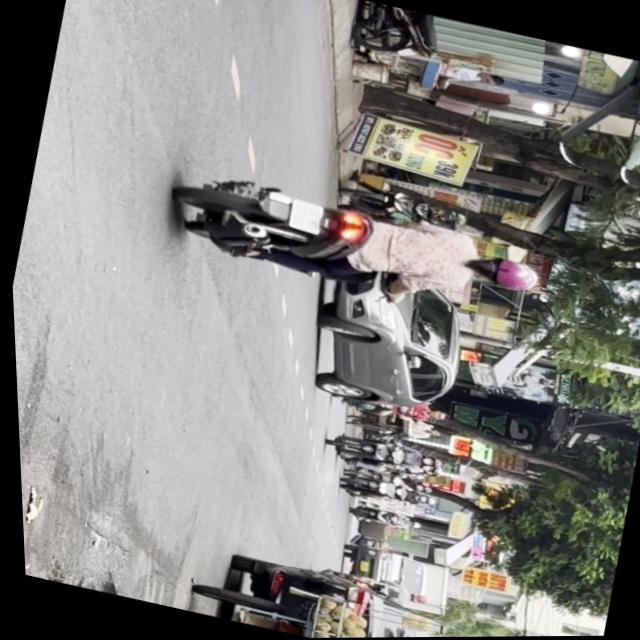helmet: (467, 249, 540, 296)
licenseplate: (160, 159, 547, 332)
nohelmet: (284, 197, 325, 234)
